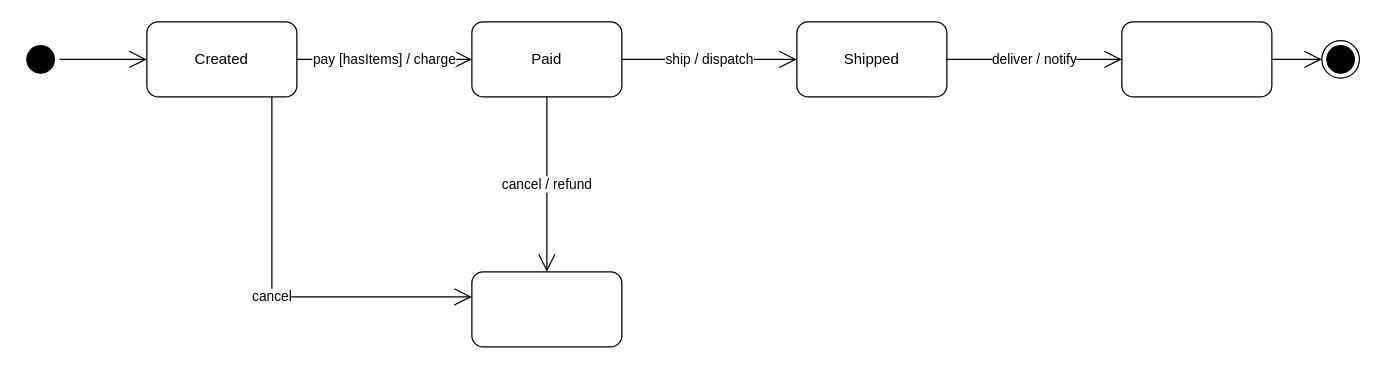
Image size: 1381x369. Some labels were removed from this diagram. The centre of each missing label's shape, as x and y in pixels:
"Cancelled" belongs at point (546, 309).
"Delivered" belongs at point (1196, 59).
